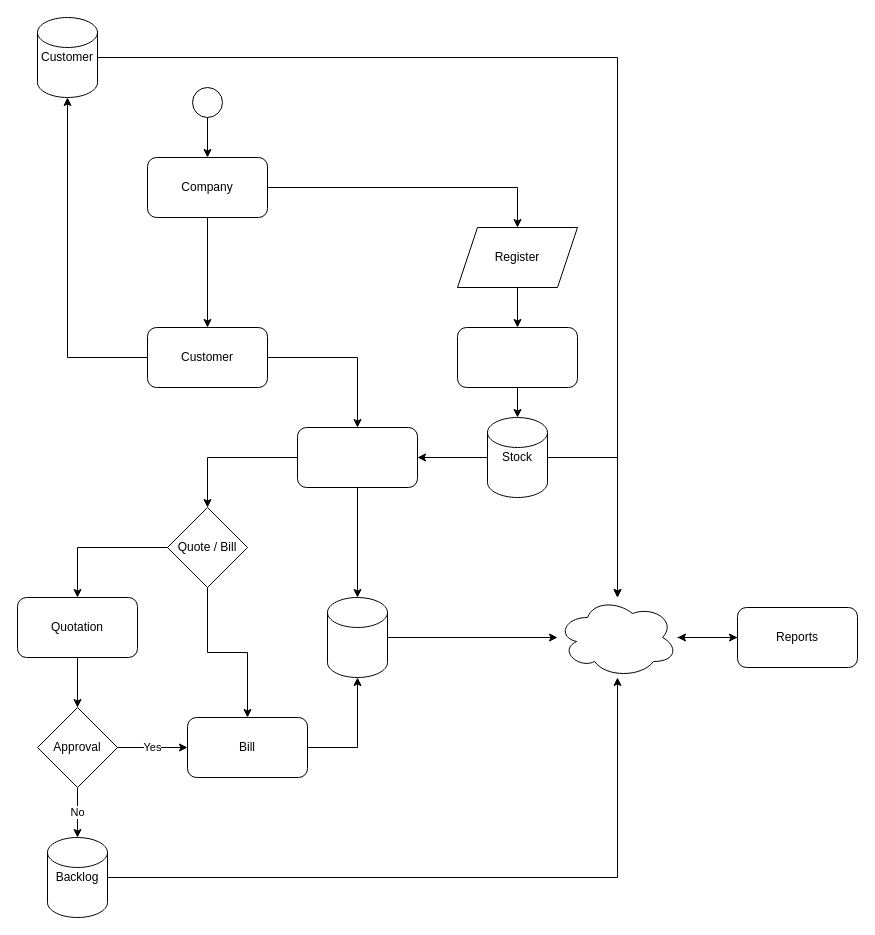
This 875x935 diagram has some shape labels left out. Here are the shapes that lost their labels. From the top down, the centre of each, then its label:
(207,102): Start
(517,357): Purchase Entry (Stock)
(357,457): Sales Entry
(357,637): Sales
(617,637): Backup
